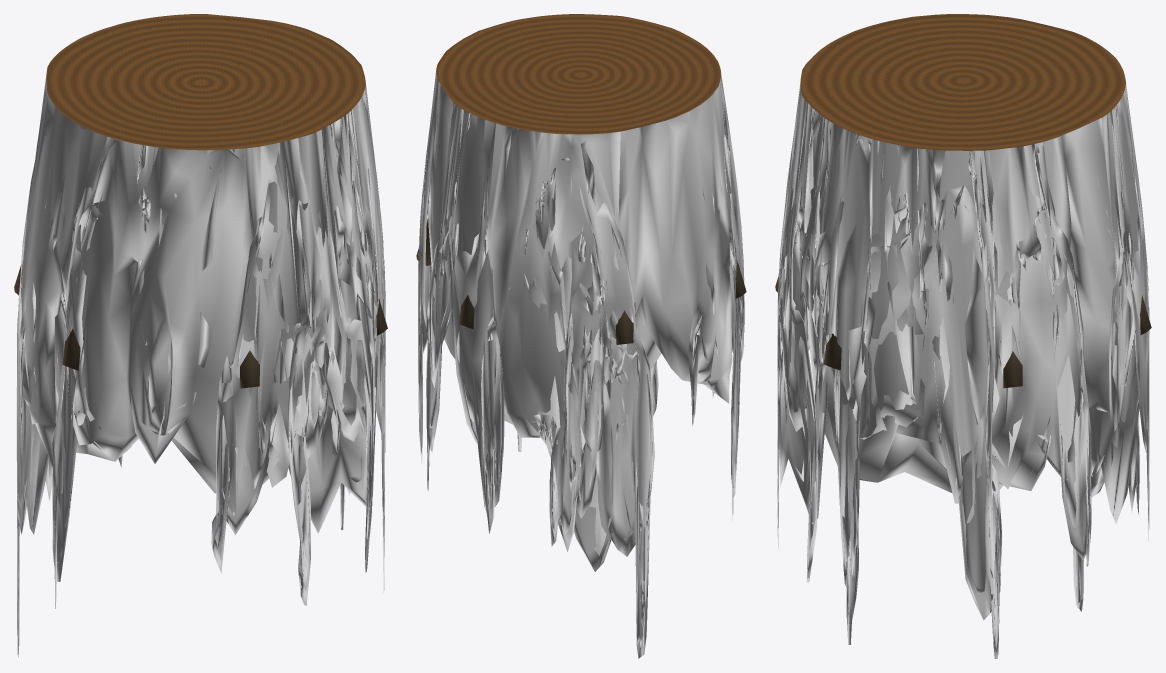
File: bog-oak-stump-lod0.gltf
3 views of the same model, side by side, from view 1: azimuth 30°, elevation 25°; view 2: azimuth 150°, elevation 25°; view 3: azimuth 270°, elevation 25° (orthographic). The views are drawn at different scales.
Visible parts, largest first — view 1: stump bog-oak-0-0, C1 closed end grain L0, stump C1 knuckled roots L0; view 2: stump bog-oak-0-0, C1 closed end grain L0, stump C1 knuckled roots L0; view 3: stump bog-oak-0-0, C1 closed end grain L0, stump C1 knuckled roots L0.
Part boxes in pixels (left/top/right/bottom): stump bog-oak-0-0: left=16, top=71, right=385, bottom=657; C1 closed end grain L0: left=46, top=14, right=365, bottom=150; stump C1 knuckled roots L0: left=14, top=261, right=387, bottom=388; stump bog-oak-0-0: left=418, top=71, right=744, bottom=658; C1 closed end grain L0: left=436, top=14, right=720, bottom=134; stump C1 knuckled roots L0: left=416, top=218, right=746, bottom=344; stump bog-oak-0-0: left=777, top=81, right=1149, bottom=658; C1 closed end grain L0: left=800, top=14, right=1125, bottom=150; stump C1 knuckled roots L0: left=775, top=276, right=1151, bottom=388.
Size of the model in its own units: 0.6148 by 1.07 by 0.6175.
